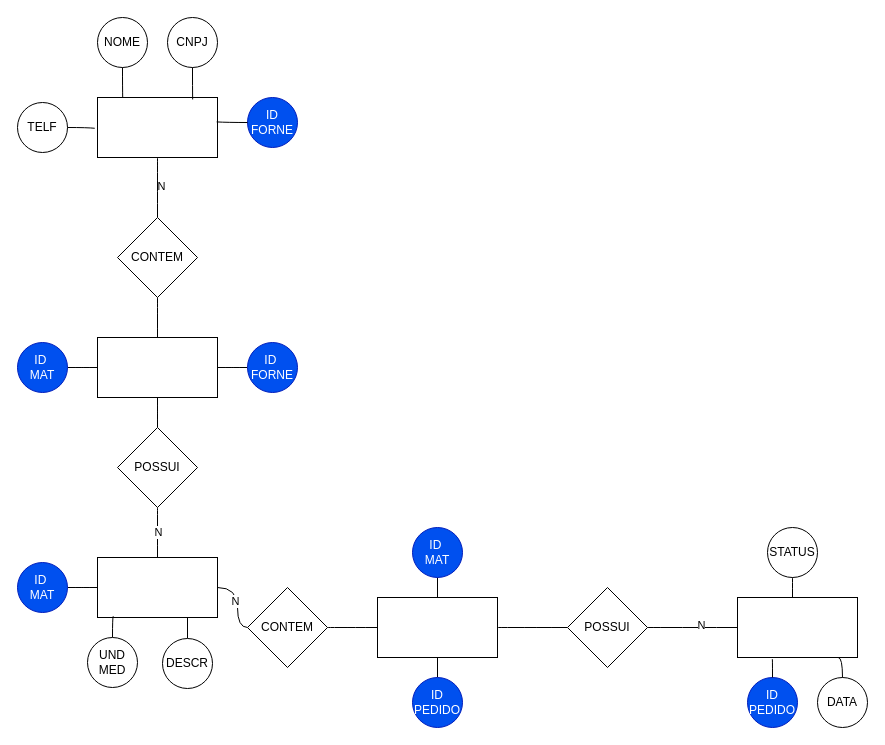
Image size: 885x745. Some labels were removed from this diagram. The shapes that lost their labels are listed below. From the top down, each one's centre as x and y in pixels, then its label:
At (157,127): "FORNECEDOR".
At (157,367): "FORNECEDOR MÁTERIA PRIMA".
At (157,587): "MÁTERIA PRIMA".
At (437,627): "MÁTERIA PRIMA PEDIDO".
At (797,627): "PEDIDO".
